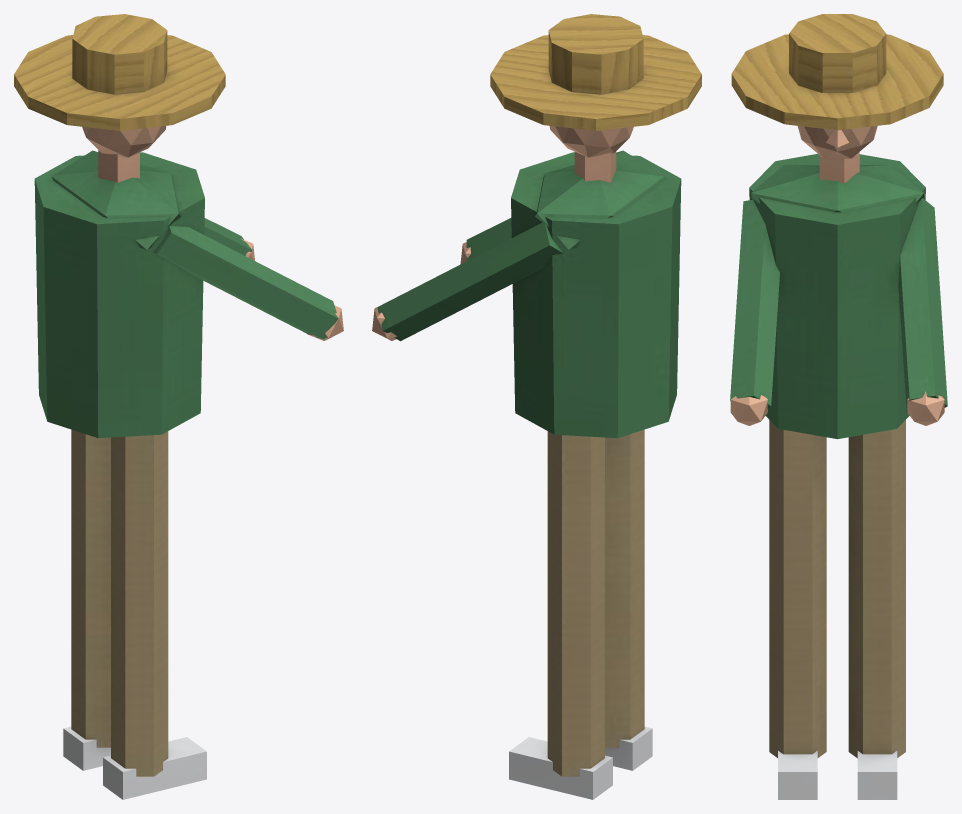
Rendered from promenerare_tex.glb.
3 renders of one model, left to right at view 1: azimuth 30°, elevation 25°; view 2: azimuth 150°, elevation 25°; view 3: azimuth 270°, elevation 25°, orthographic.
Visible parts, largest first — view 1: promenerare; view 2: promenerare; view 3: promenerare.
Boxes of the visible parts, left/top/right/bottom form: promenerare: left=14, top=14, right=343, bottom=799; promenerare: left=372, top=14, right=701, bottom=799; promenerare: left=730, top=14, right=947, bottom=799.
Bounding box in the file's own units: 0.6926 × 1.81 × 0.4846.
7 materials, 6 textured.
